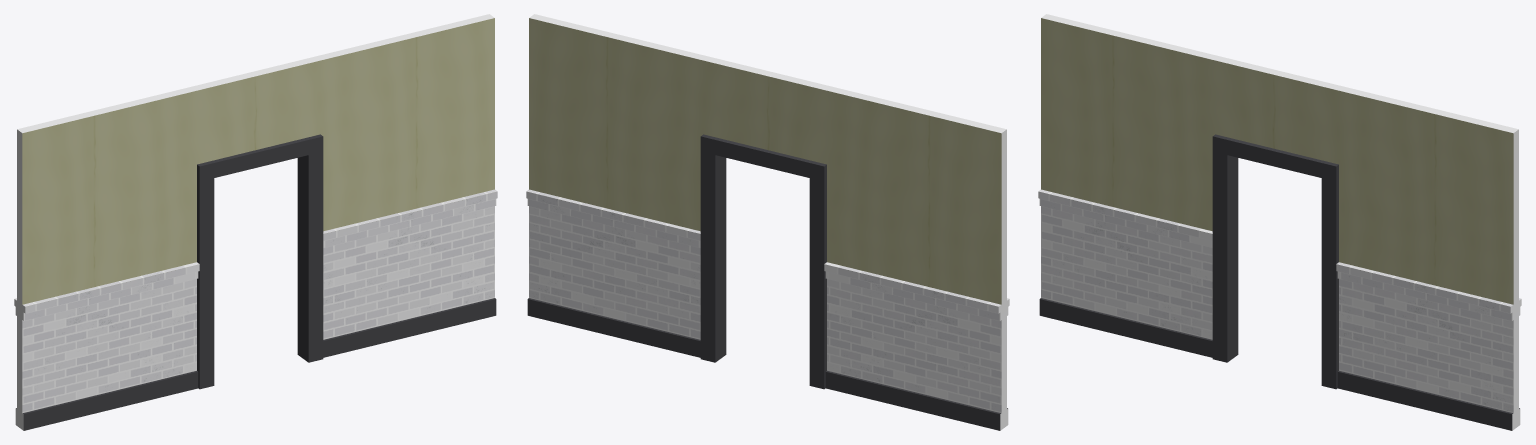
Rendered from SM_Buildings_WallDoor_5x3_01_TileBack.fbx.
The picture shows the model from 3 angles, left to right: view 1: azimuth 30°, elevation 25°; view 2: azimuth 150°, elevation 25°; view 3: azimuth 330°, elevation 25°; orthographic projection.
Parts seen in each view (by area): view 1: SM_Buildings_WallDoor_5x3_01_TileBack; view 2: SM_Buildings_WallDoor_5x3_01_TileBack; view 3: SM_Buildings_WallDoor_5x3_01_TileBack.
Boxes of the visible parts, left/top/right/bottom form: SM_Buildings_WallDoor_5x3_01_TileBack: left=14, top=14, right=497, bottom=430; SM_Buildings_WallDoor_5x3_01_TileBack: left=526, top=14, right=1009, bottom=430; SM_Buildings_WallDoor_5x3_01_TileBack: left=1038, top=14, right=1521, bottom=430.
Size of the model in its own units: 500 by 300 by 20.
1 material, 1 textured.
